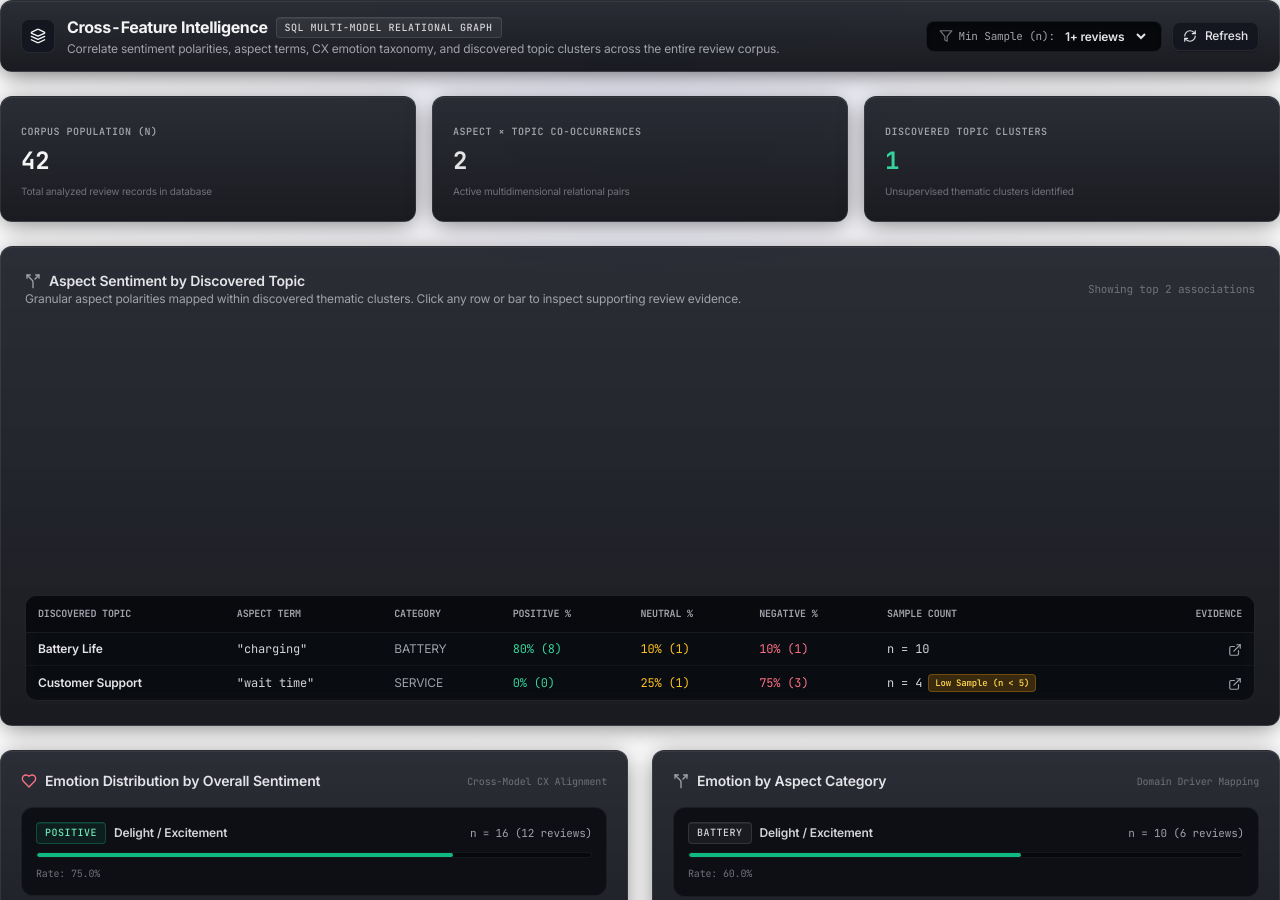
Scenario: CrossFeatureAnalytics Component › opens slide-over evidence drilldown drawer and renders matched reviews
// Click on row in Aspect Sentiment table to open drawer
Click the text "\"charging\"" at [304, 649], box [225,632,382,666]
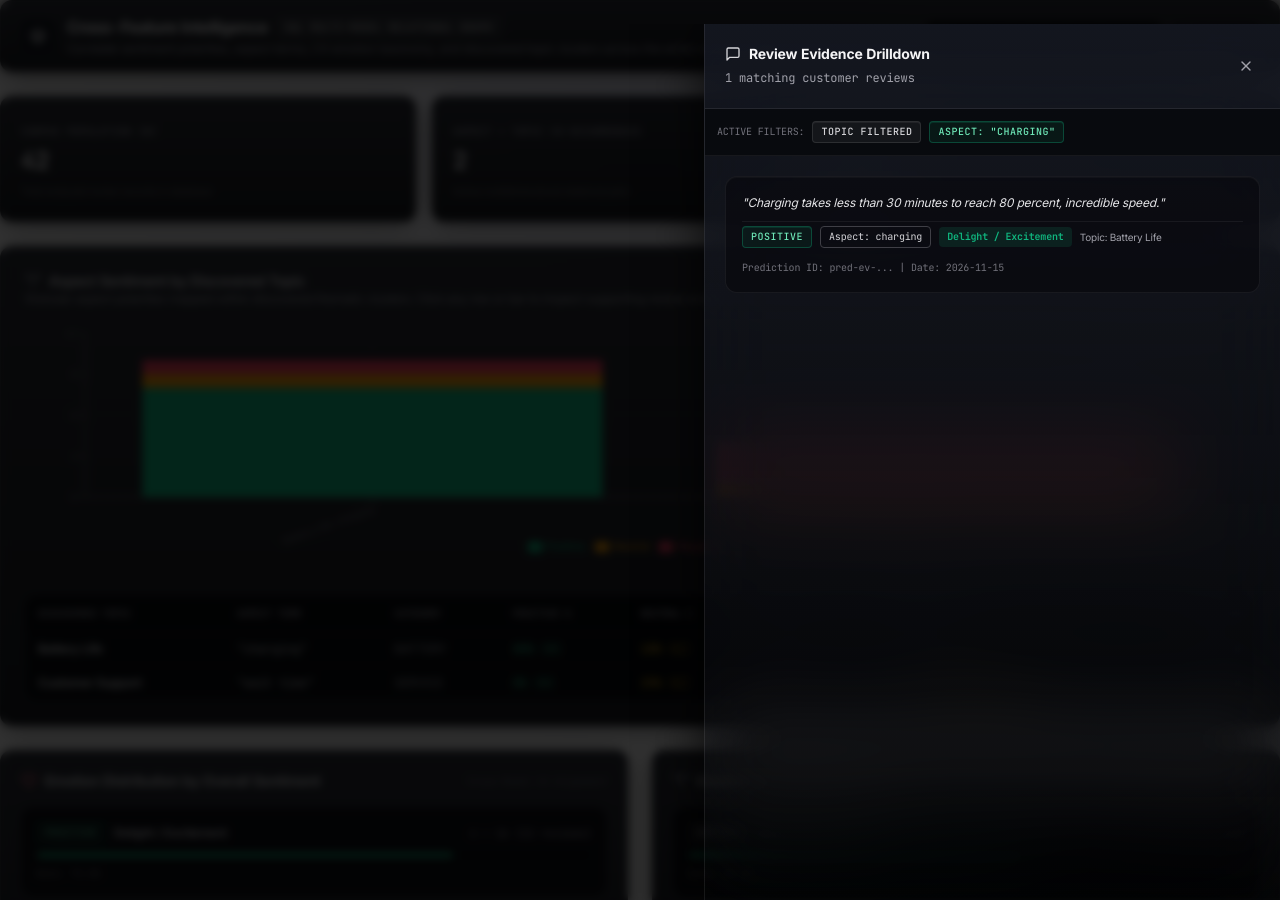
expect the heading "Review Evidence Drilldown" is shown: met, box [725,44,930,64]
expect the text "\"Charging takes less than 30 minutes to reach 80 percent, incredible speed.\"" is shown: met, box [742,195,1164,210]
// Press Escape to close drawer
Press Escape
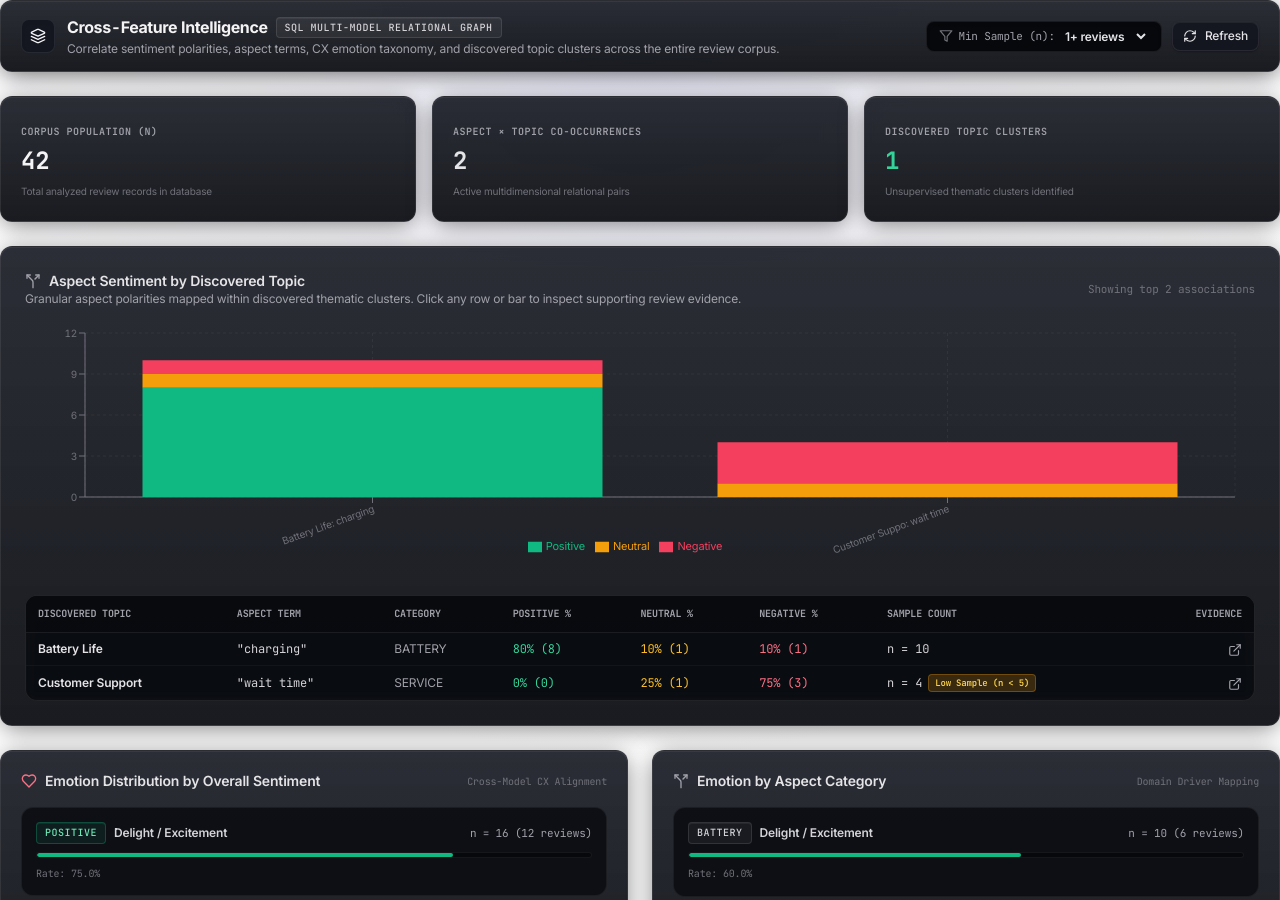
expect the heading "Review Evidence Drilldown" is gone: met
